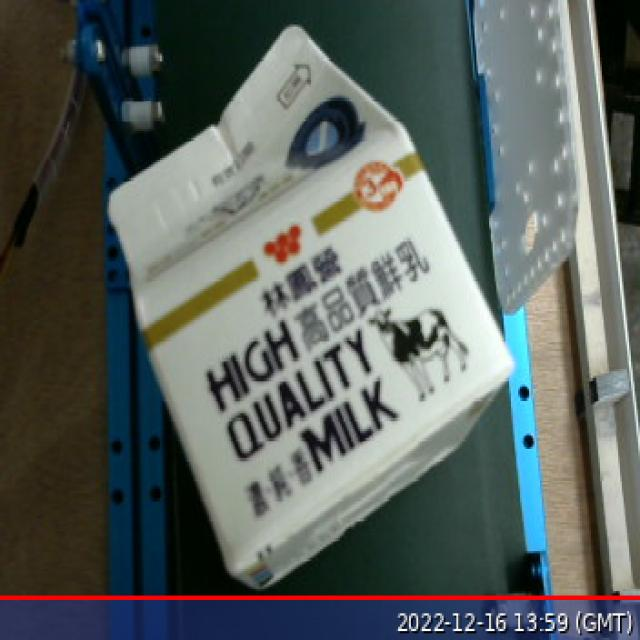non_white_jug: (88, 9, 551, 606)
